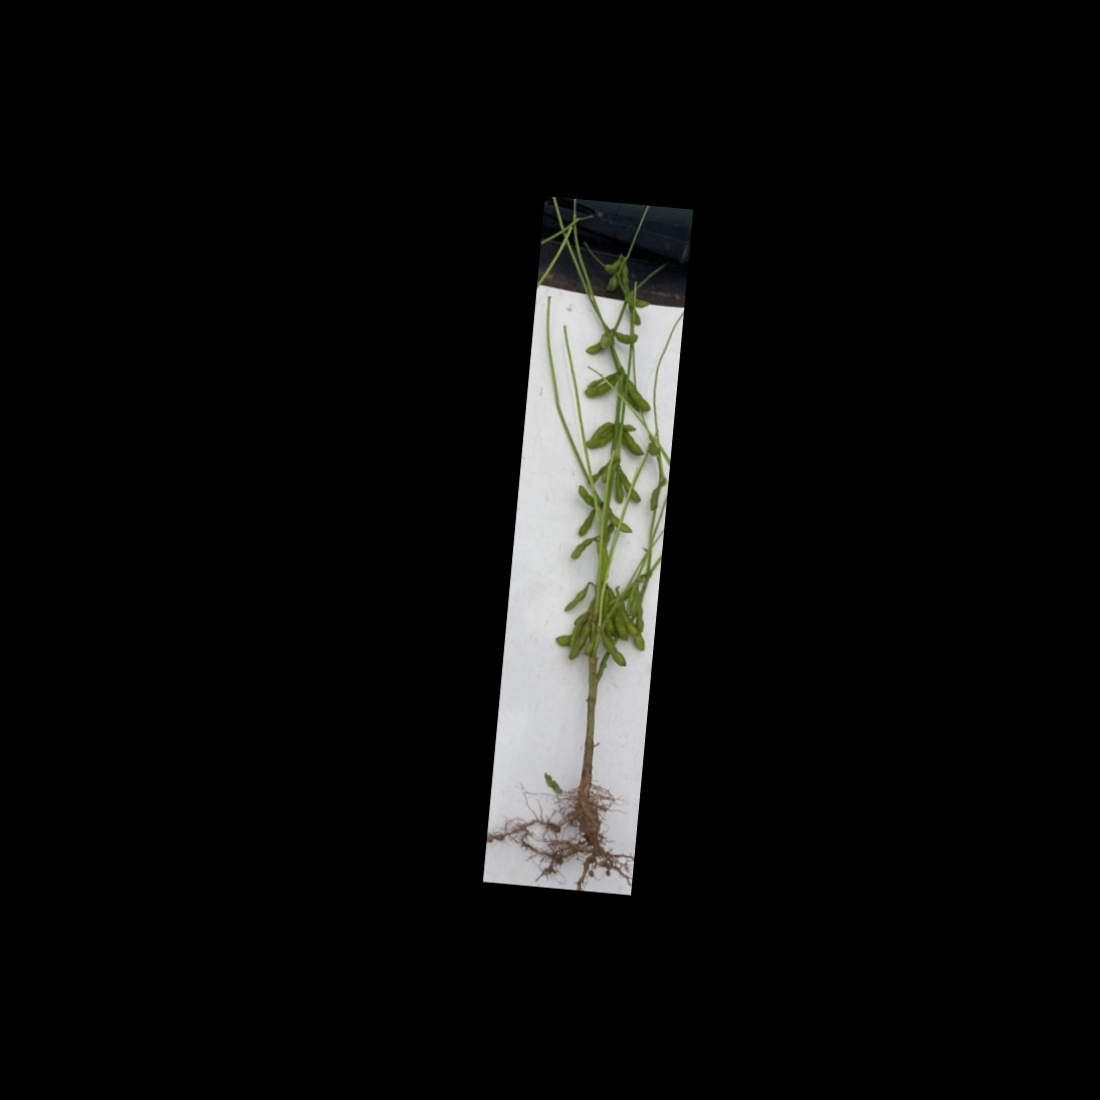pod: (621, 374, 657, 415), (595, 631, 630, 670), (560, 578, 592, 616), (568, 532, 599, 563), (604, 505, 636, 535), (617, 429, 647, 459), (575, 505, 599, 540), (587, 417, 614, 445), (620, 293, 654, 310), (607, 330, 643, 346)
soy: (511, 224, 684, 875)
